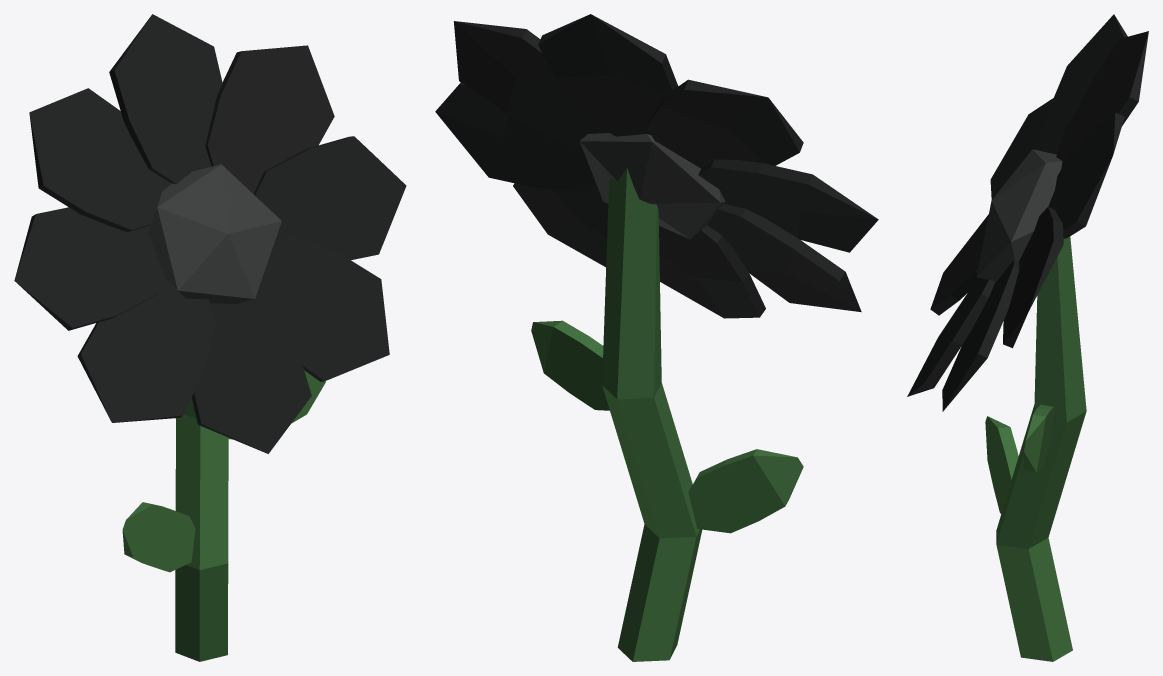
Rendered from Flower_4_Black.fbx.
3 renders of one model, left to right at view 1: azimuth 30°, elevation 25°; view 2: azimuth 150°, elevation 25°; view 3: azimuth 270°, elevation 25°, orthographic. The views are drawn at different scales.
Visible parts, largest first — view 1: Flower_4_Black_Part_1, Flower_4_Black_Part_3, Flower_4_Black_Part_2; view 2: Flower_4_Black_Part_1, Flower_4_Black_Part_3, Flower_4_Black_Part_2; view 3: Flower_4_Black_Part_1, Flower_4_Black_Part_3, Flower_4_Black_Part_2.
Boxes of the visible parts, box(x1,y1,x2,y2) form: Flower_4_Black_Part_1: box(14, 14, 406, 453); Flower_4_Black_Part_3: box(122, 370, 325, 661); Flower_4_Black_Part_2: box(148, 164, 281, 303); Flower_4_Black_Part_1: box(435, 14, 878, 318); Flower_4_Black_Part_3: box(531, 168, 803, 661); Flower_4_Black_Part_2: box(579, 133, 725, 239); Flower_4_Black_Part_1: box(907, 14, 1148, 411); Flower_4_Black_Part_3: box(985, 236, 1086, 661); Flower_4_Black_Part_2: box(976, 149, 1062, 281).
Bounding box in the file's own units: 32.5 × 47.45 × 16.79.
